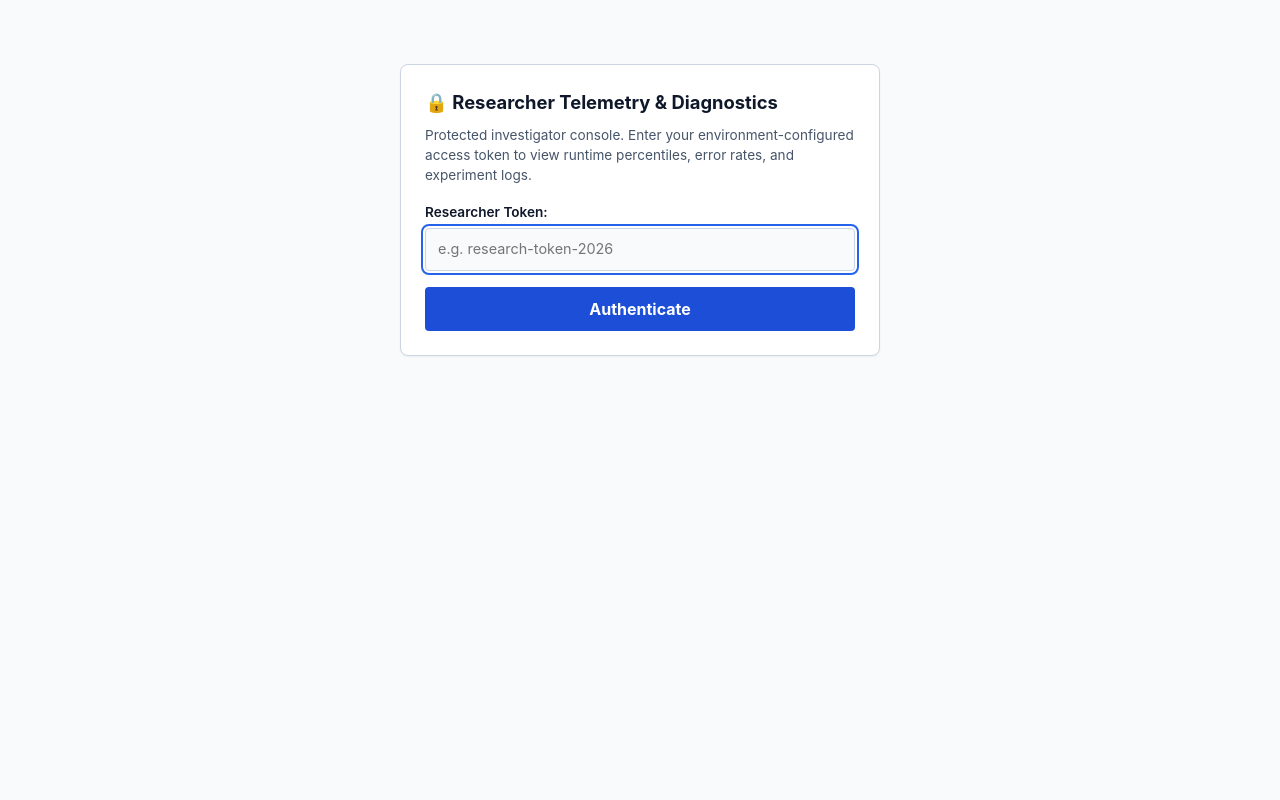
Test case: Part 4 Advanced Features Test Suite › 4. Real-vs-generated explorer displays BLOCKED when no local test pairs folder is supplied
Type "research-token-2026" into the password field labelled "Researcher Token:" at (640,249), box x1=425 y1=228 x2=855 y2=271
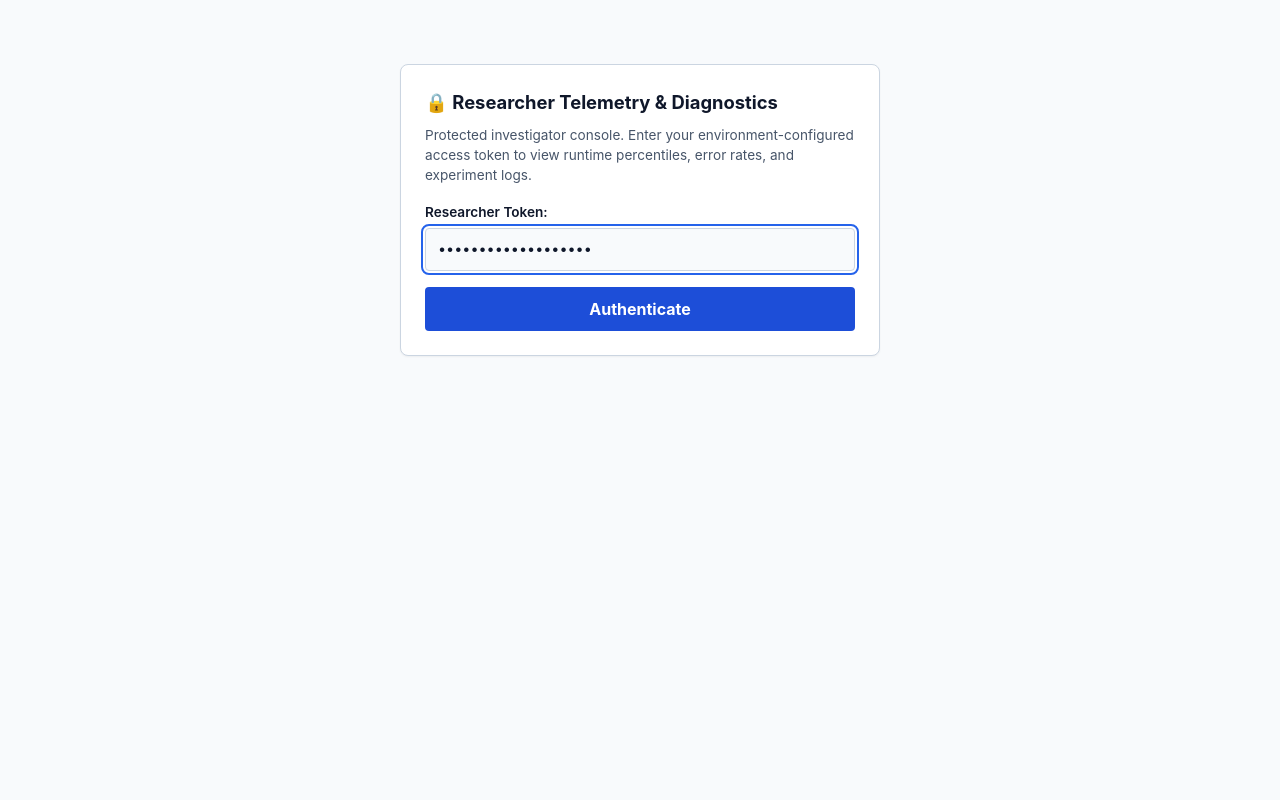
Click the button "Authenticate" at (640,309), box x1=425 y1=286 x2=855 y2=331
(page scrolled)
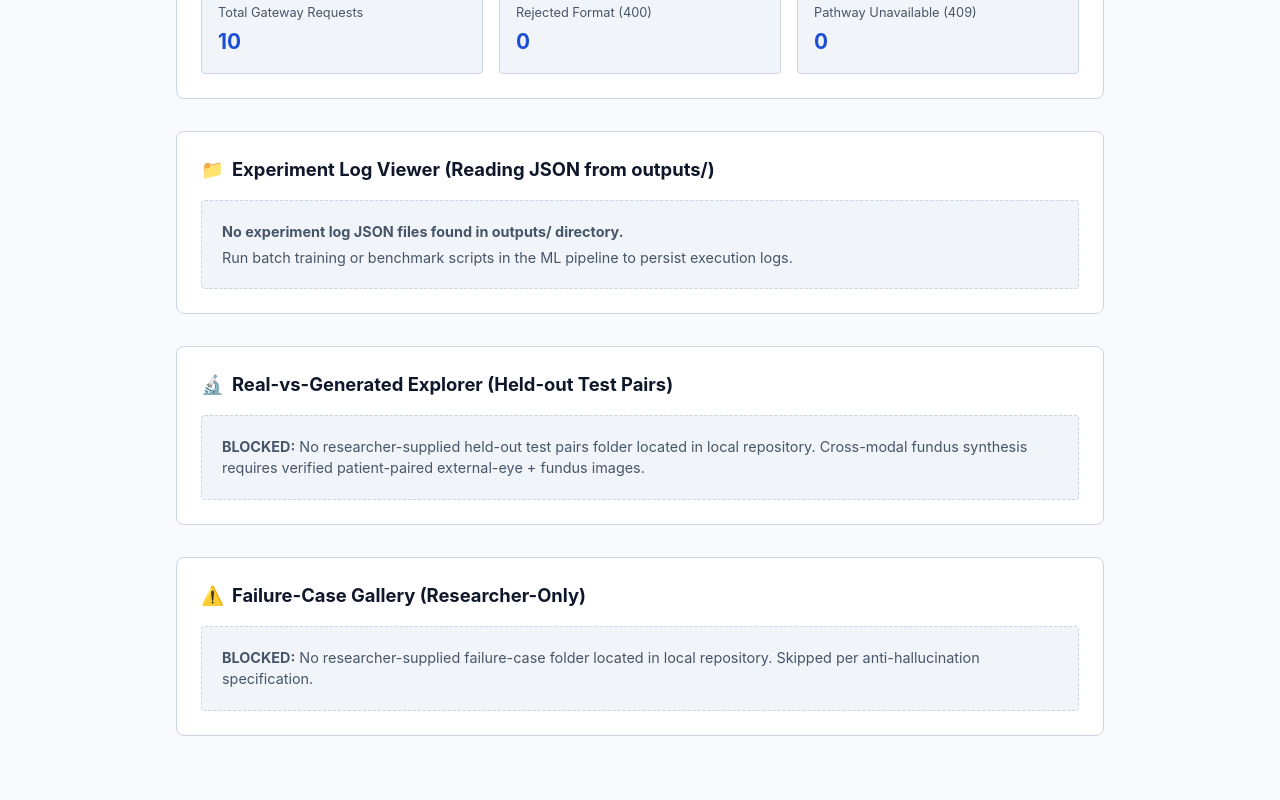
Expected: the heading "🔬 Real-vs-Generated Explorer (Held-out Test Pairs)" is shown, x1=201 y1=373 x2=673 y2=395
Expected: the text "No researcher-supplied held-out test pairs folder located in local repository" is shown, x1=222 y1=438 x2=1027 y2=476
